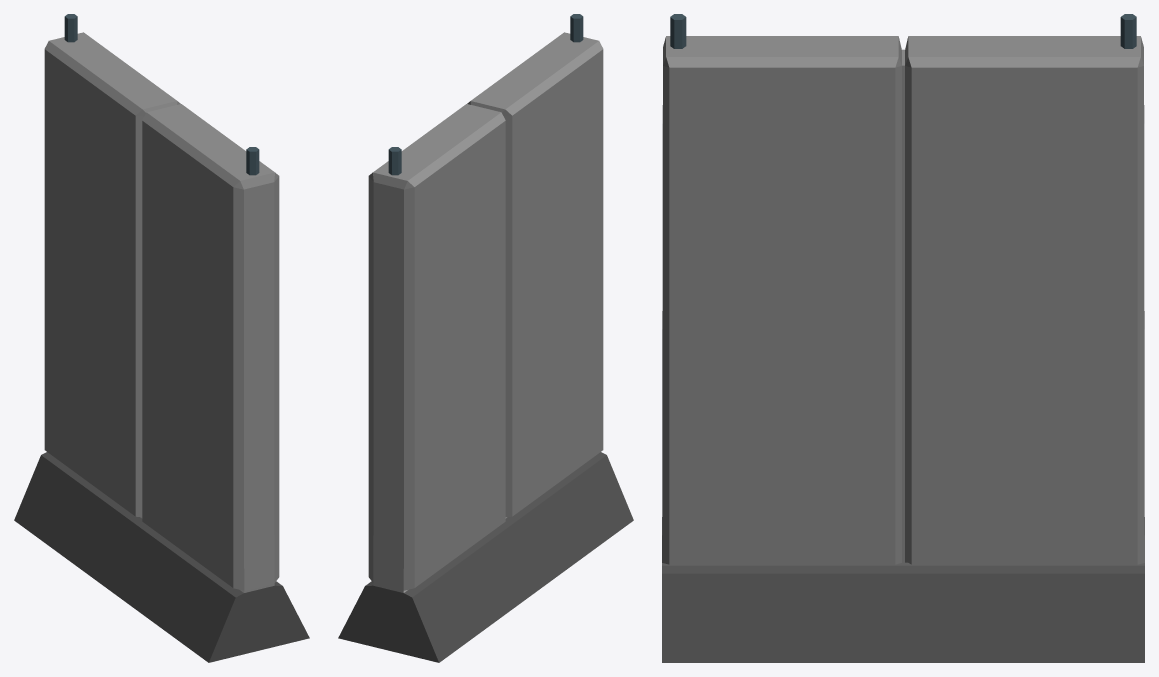
File: Fence.fbx
The picture shows the model from 3 angles, left to right: view 1: azimuth 30°, elevation 25°; view 2: azimuth 150°, elevation 25°; view 3: azimuth 270°, elevation 25°; orthographic projection. The views are drawn at different scales.
Parts seen in each view (by area): view 1: Fence; view 2: Fence; view 3: Fence.
Boxes of the visible parts, x1=… form: Fence: x1=14, y1=14, x2=309, y2=662; Fence: x1=338, y1=14, x2=633, y2=662; Fence: x1=662, y1=14, x2=1144, y2=662.
Size of the model in its own units: 90 by 422 by 300.
